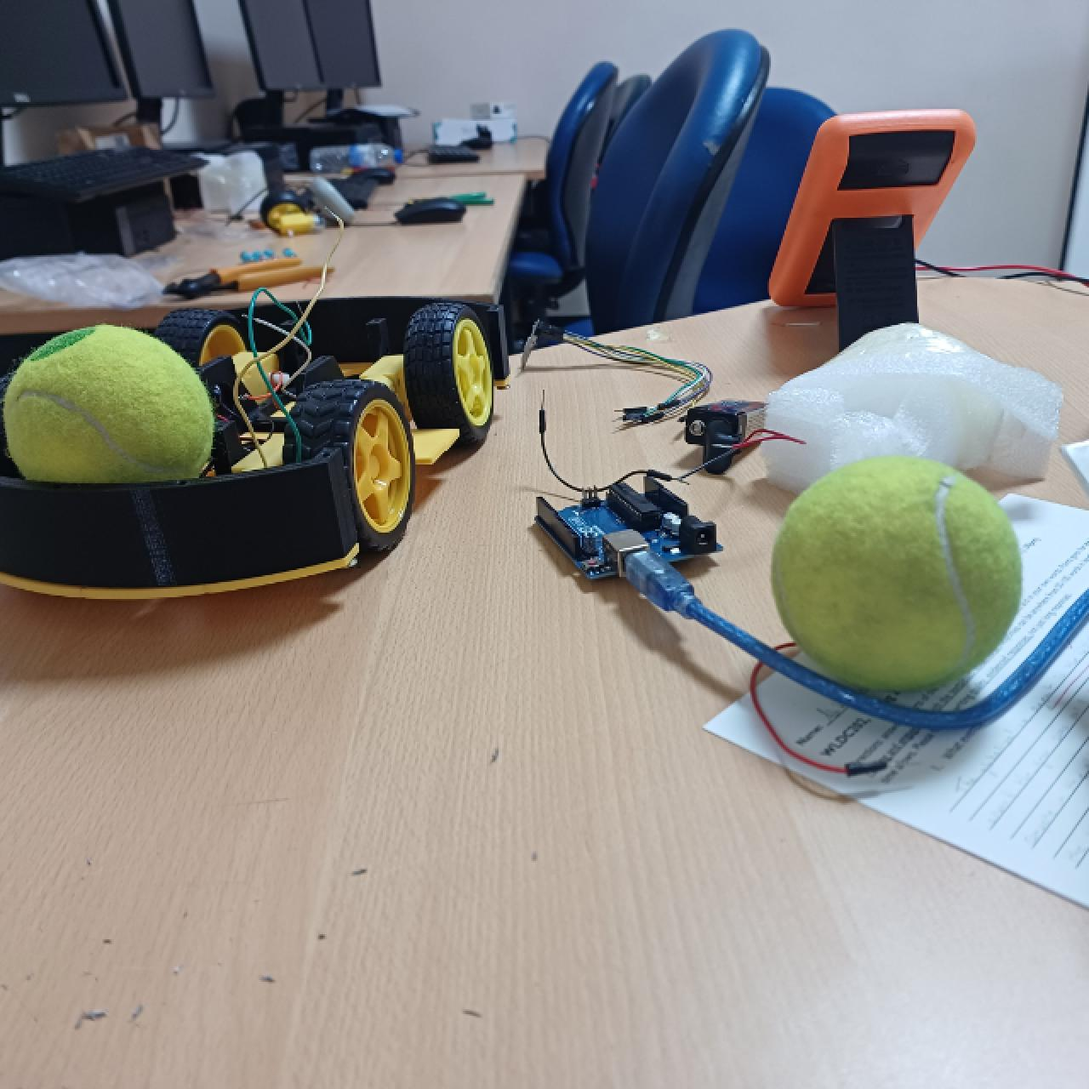tennis-ball: (770, 454, 1024, 696), (0, 325, 216, 495)
